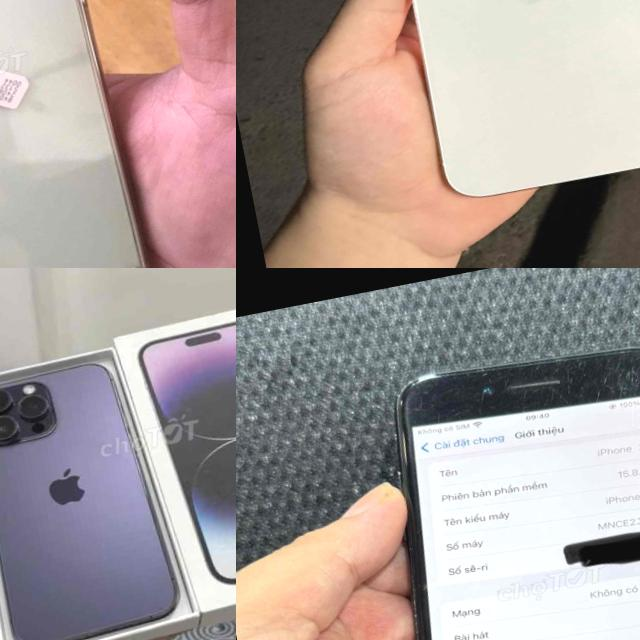gen_12_13: (0, 0, 167, 268)
gen_14: (0, 348, 189, 640)
gen_15: (358, 0, 640, 227)
gen_7_8: (343, 325, 640, 640)
